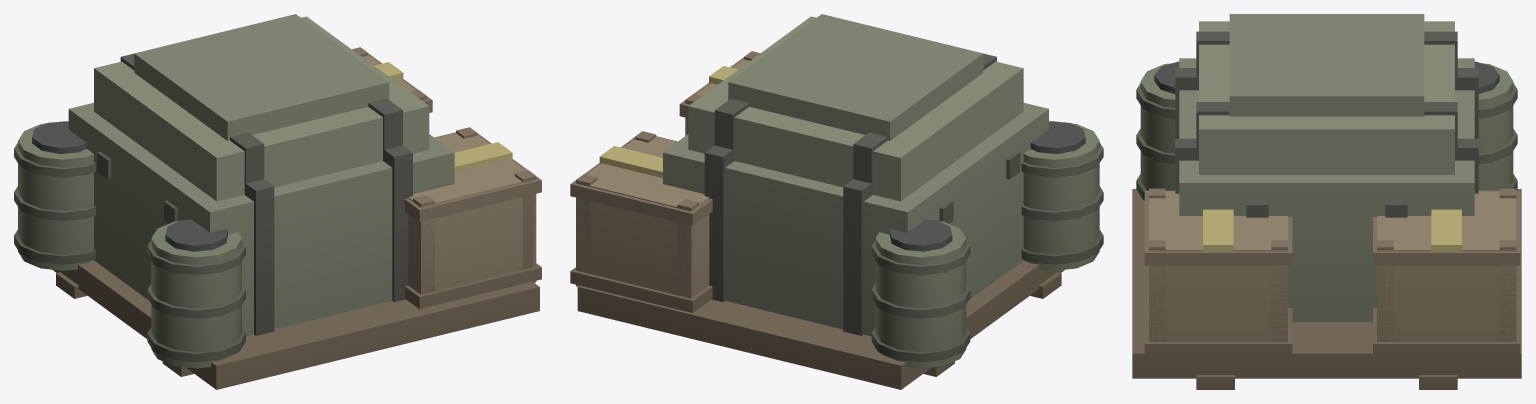
File: m_harv_630a7454.glb
3 views of the same model, side by side, from view 1: azimuth 30°, elevation 25°; view 2: azimuth 150°, elevation 25°; view 3: azimuth 270°, elevation 25° (orthographic). The views are drawn at different scales.
Visible parts, largest first — view 1: mesh; view 2: mesh; view 3: mesh.
Part boxes in pixels (<box>): mesh: <box>14,14,541,389</box>; mesh: <box>570,14,1103,389</box>; mesh: <box>1132,14,1521,389</box>.
Bounding box in the file's own units: 15.9 × 9.45 × 14.
